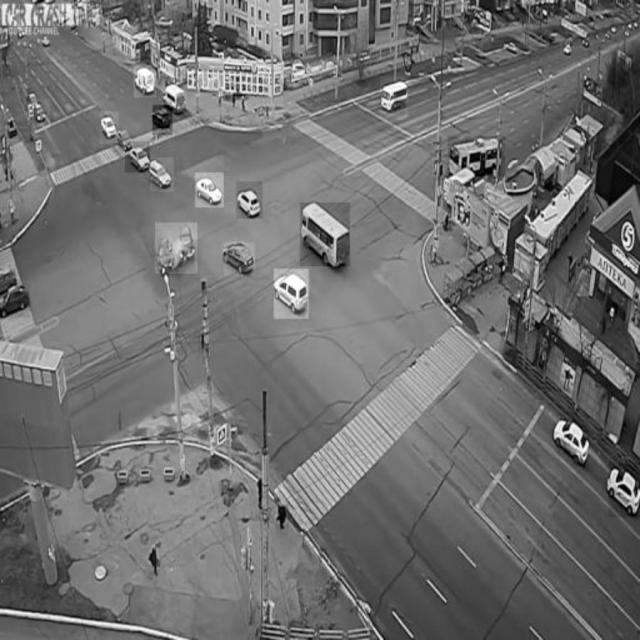accident: (156, 223, 198, 274)
vehicle: (300, 203, 350, 267), (448, 137, 505, 177), (274, 269, 309, 319), (609, 462, 639, 518), (556, 414, 586, 469), (380, 76, 408, 116), (0, 284, 30, 318), (224, 243, 254, 277), (195, 172, 223, 208), (237, 182, 263, 219), (150, 157, 174, 191), (163, 79, 190, 109), (125, 142, 150, 172), (134, 67, 156, 97), (153, 105, 173, 135), (100, 112, 118, 144), (33, 99, 50, 127)
